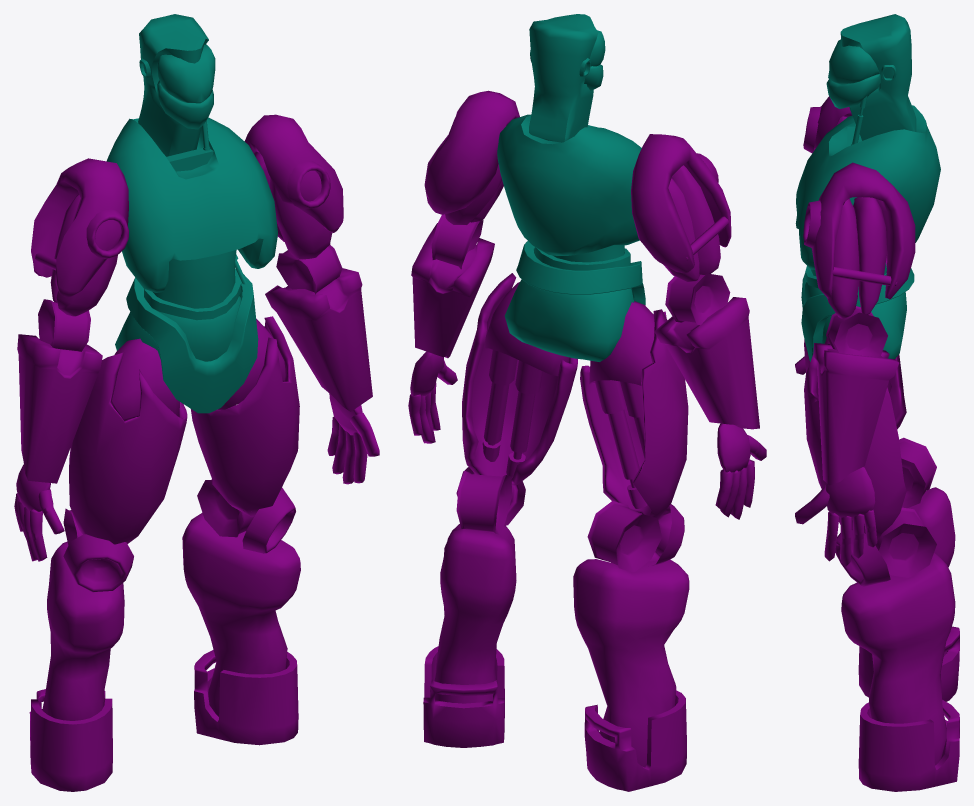
File: Hibrido.fbx
The picture shows the model from 3 angles, left to right: view 1: azimuth 30°, elevation 25°; view 2: azimuth 150°, elevation 25°; view 3: azimuth 270°, elevation 25°; orthographic projection. The views are drawn at different scales.
Visible parts, largest first — view 1: MArmour_low, CHAMORRO_low, PETO_low, ANTEBRAZO_low, TACONS_low, HOMBRO_low, CINTURON_low, RING_low (×2), CUELLO_low, TORZO_low, MUSLO_low, ELBOW_low (+12 smaller); view 2: CHAMORRO_low, MArmour_low, PETO_low, ANTEBRAZO_low, HOMBRO_low, TACONS_low, CINTO_low, CUELLO_low, RODILLA_low, MUSLO_low, PistonL2_low, ELBOW_low (+11 smaller); view 3: CHAMORRO_low, TACONS_low, PETO_low, ANTEBRAZO_low, HOMBRO_low, MArmour_low, CUELLO_low, RODILLA_low, TRICEP_low, RING_low (×2), BICEP_low, ELBOW_low (+11 smaller).
Boxes of the visible parts, box(x1,y1,x2,y2) form: MArmour_low: box(69, 316, 299, 544); CHAMORRO_low: box(42, 512, 300, 720); PETO_low: box(106, 117, 277, 292); ANTEBRAZO_low: box(17, 268, 372, 483); TACONS_low: box(29, 650, 298, 791); HOMBRO_low: box(31, 114, 343, 297); CINTURON_low: box(126, 268, 258, 413); RING_low (×2): box(63, 161, 330, 592); CUELLO_low: box(138, 14, 208, 156); TORZO_low: box(144, 250, 241, 320); MUSLO_low: box(112, 318, 285, 419); ELBOW_low: box(38, 245, 342, 351); CHAMORRO_low: box(434, 524, 689, 767); MArmour_low: box(462, 273, 688, 518); PETO_low: box(497, 114, 641, 255); ANTEBRAZO_low: box(411, 223, 759, 429); HOMBRO_low: box(424, 90, 731, 273); TACONS_low: box(423, 646, 686, 791); CINTO_low: box(504, 258, 634, 361); CUELLO_low: box(529, 14, 598, 142); RODILLA_low: box(456, 470, 661, 572); MUSLO_low: box(483, 282, 654, 385); PistonL2_low: box(506, 360, 647, 508); ELBOW_low: box(431, 214, 730, 325); CHAMORRO_low: box(841, 487, 955, 765); TACONS_low: box(858, 626, 959, 791); PETO_low: box(795, 105, 940, 269); ANTEBRAZO_low: box(813, 343, 899, 485); HOMBRO_low: box(811, 96, 915, 299); MArmour_low: box(804, 339, 906, 540); CUELLO_low: box(840, 14, 916, 140); RODILLA_low: box(875, 437, 936, 577); TRICEP_low: box(853, 197, 887, 314); RING_low (×2): box(803, 106, 890, 586); BICEP_low: box(827, 116, 859, 318); ELBOW_low: box(826, 306, 887, 357).
Bounding box in the file's own units: 1.64 × 3.33 × 0.7005.
